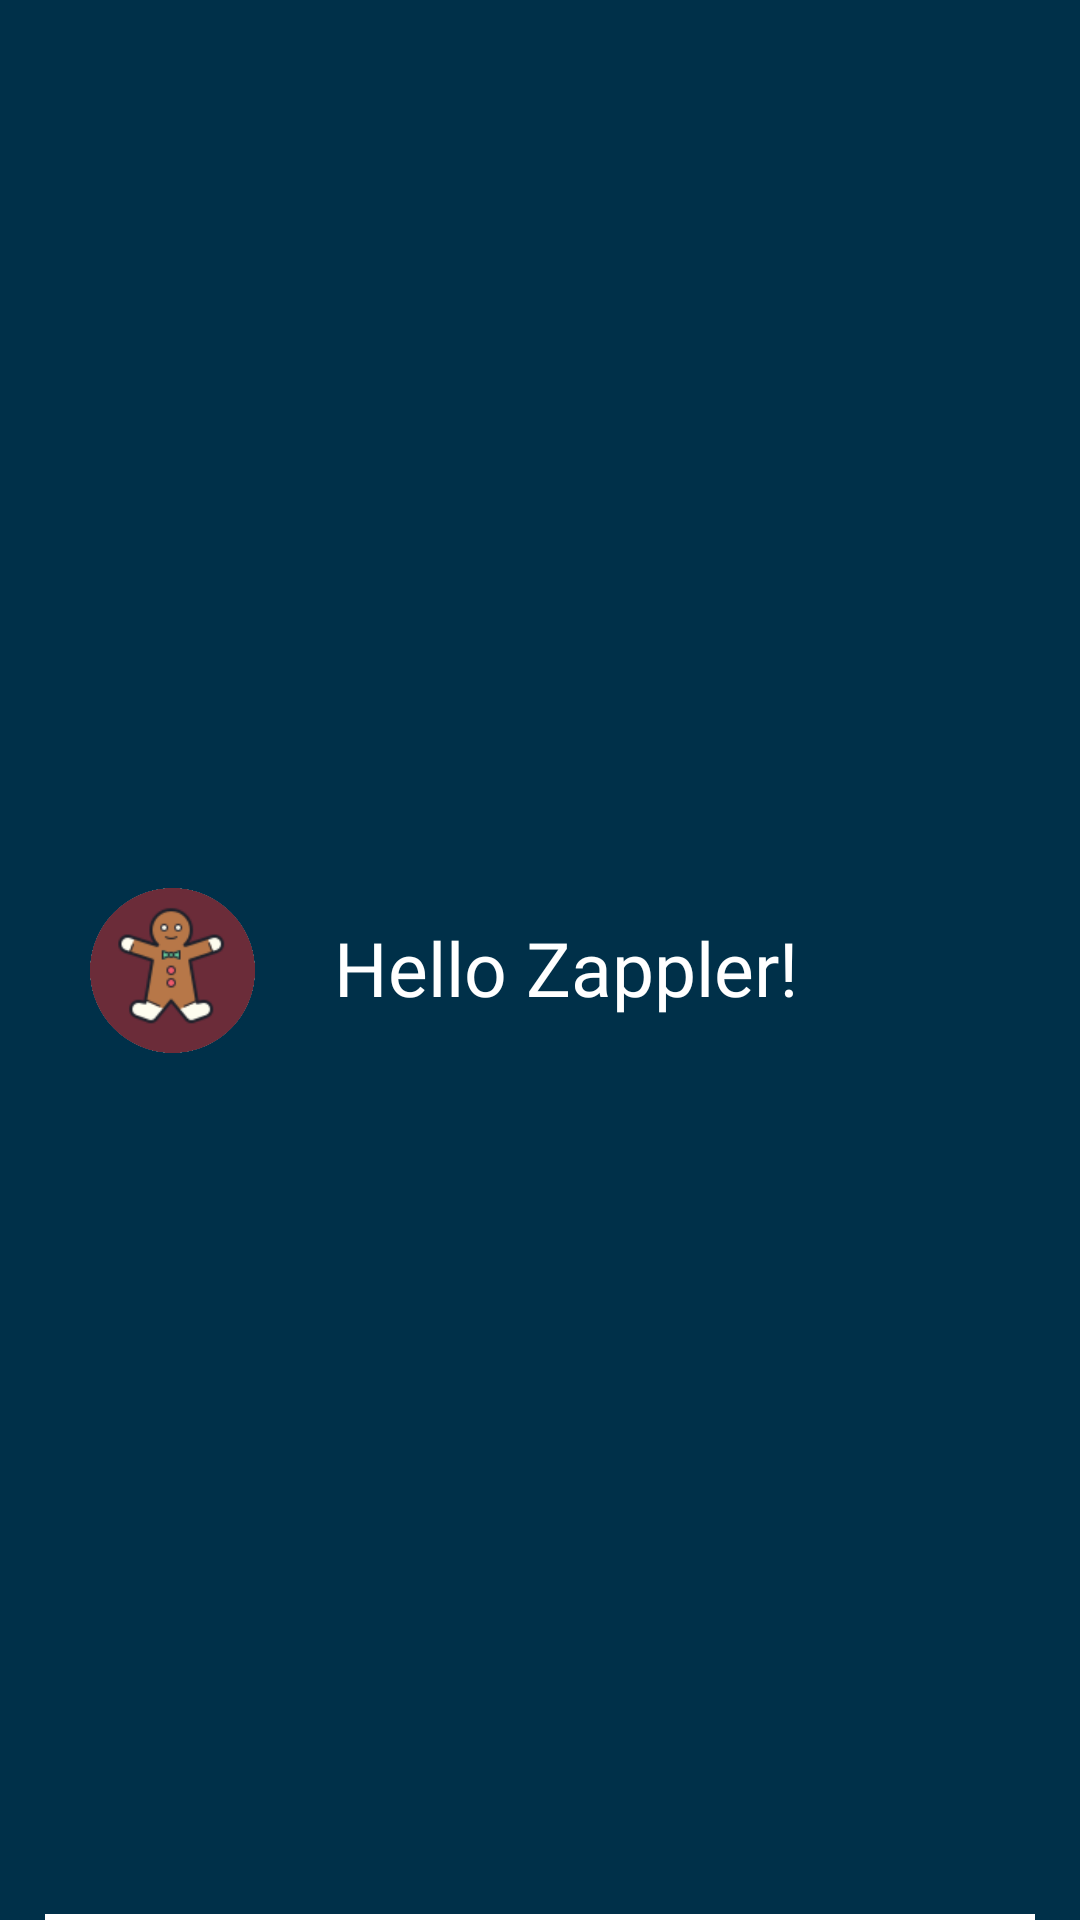

Icons on this 1080 x 1920 Android screen, each with the point to tap as point (x, y):
placeholderprofile: point (172, 970)
